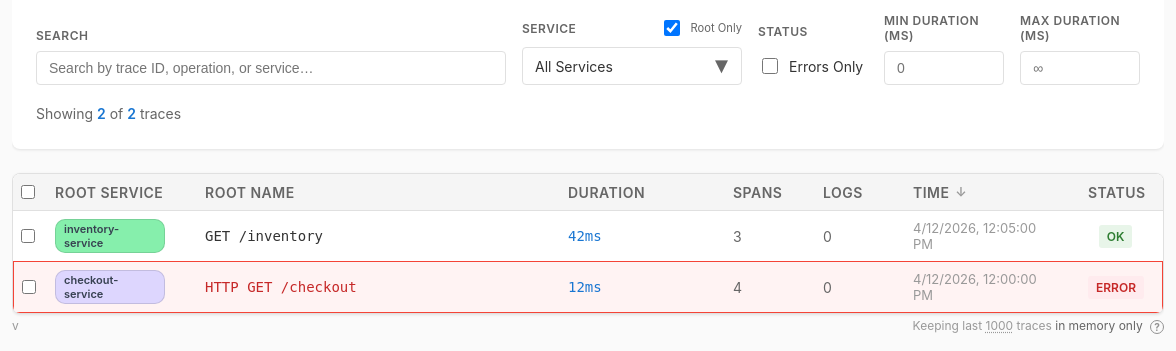
Test: Traces › filters traces by selected service from the picker
This screenshot has width=1176, height=351.
Click the button labelled "All Services ▾": coordinates (632, 66) [522,47,742,85]
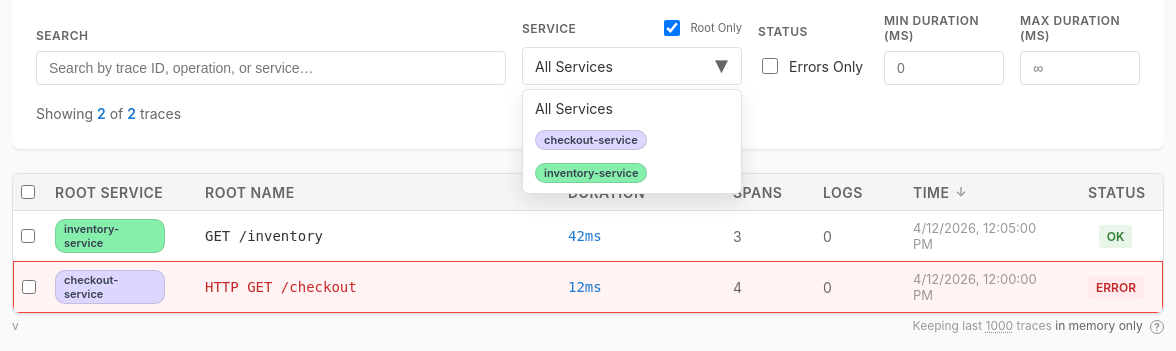
Click the button "inventory-service": coordinates (632, 173) [527,157,737,189]
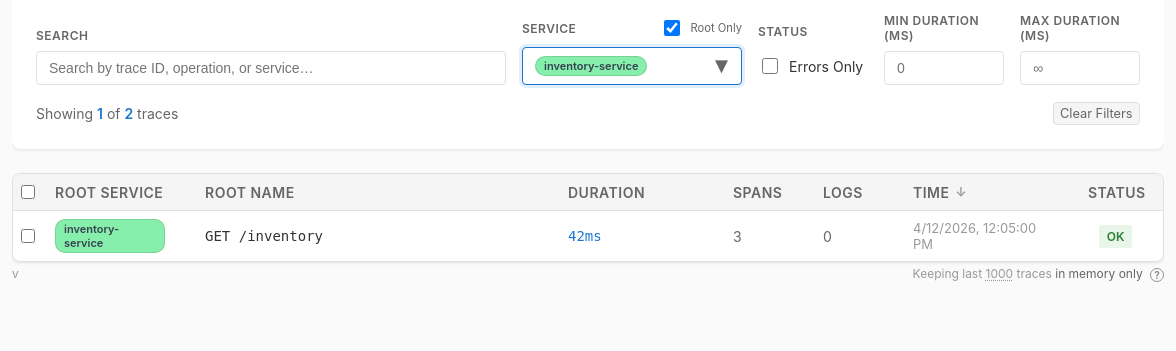
Expected: the text "GET /inventory" is shown, [185,210,548,261]
Result: the button labelled "inventory-service ▾" is shown at [522,47,742,85]
Result: the text "HTTP GET /checkout" is gone
